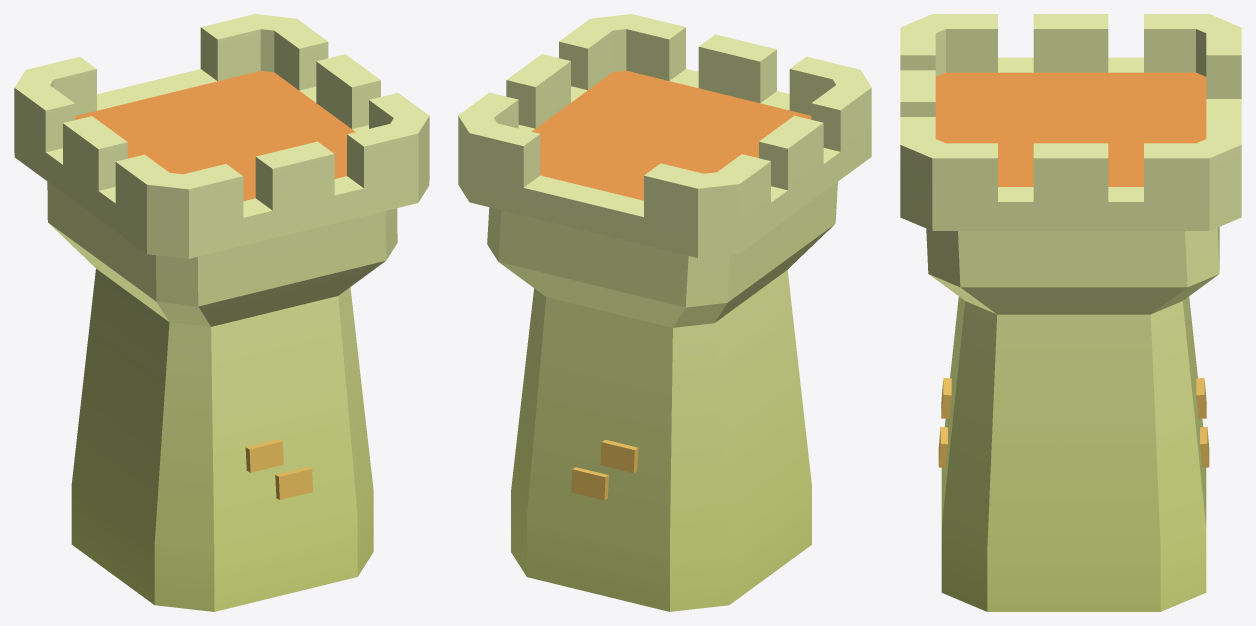
Rendered from Structure_Wall_Tower_01.fbx.
The picture shows the model from 3 angles, left to right: view 1: azimuth 30°, elevation 25°; view 2: azimuth 150°, elevation 25°; view 3: azimuth 270°, elevation 25°; orthographic projection. The views are drawn at different scales.
Parts seen in each view (by area): view 1: Structure_Wall_Tower_01; view 2: Structure_Wall_Tower_01; view 3: Structure_Wall_Tower_01.
Part boxes in pixels (x1,y1,x2,y2): Structure_Wall_Tower_01: [14, 14, 429, 611]; Structure_Wall_Tower_01: [458, 14, 871, 611]; Structure_Wall_Tower_01: [900, 14, 1241, 611].
Size of the model in its own units: 753 by 1141 by 753.
